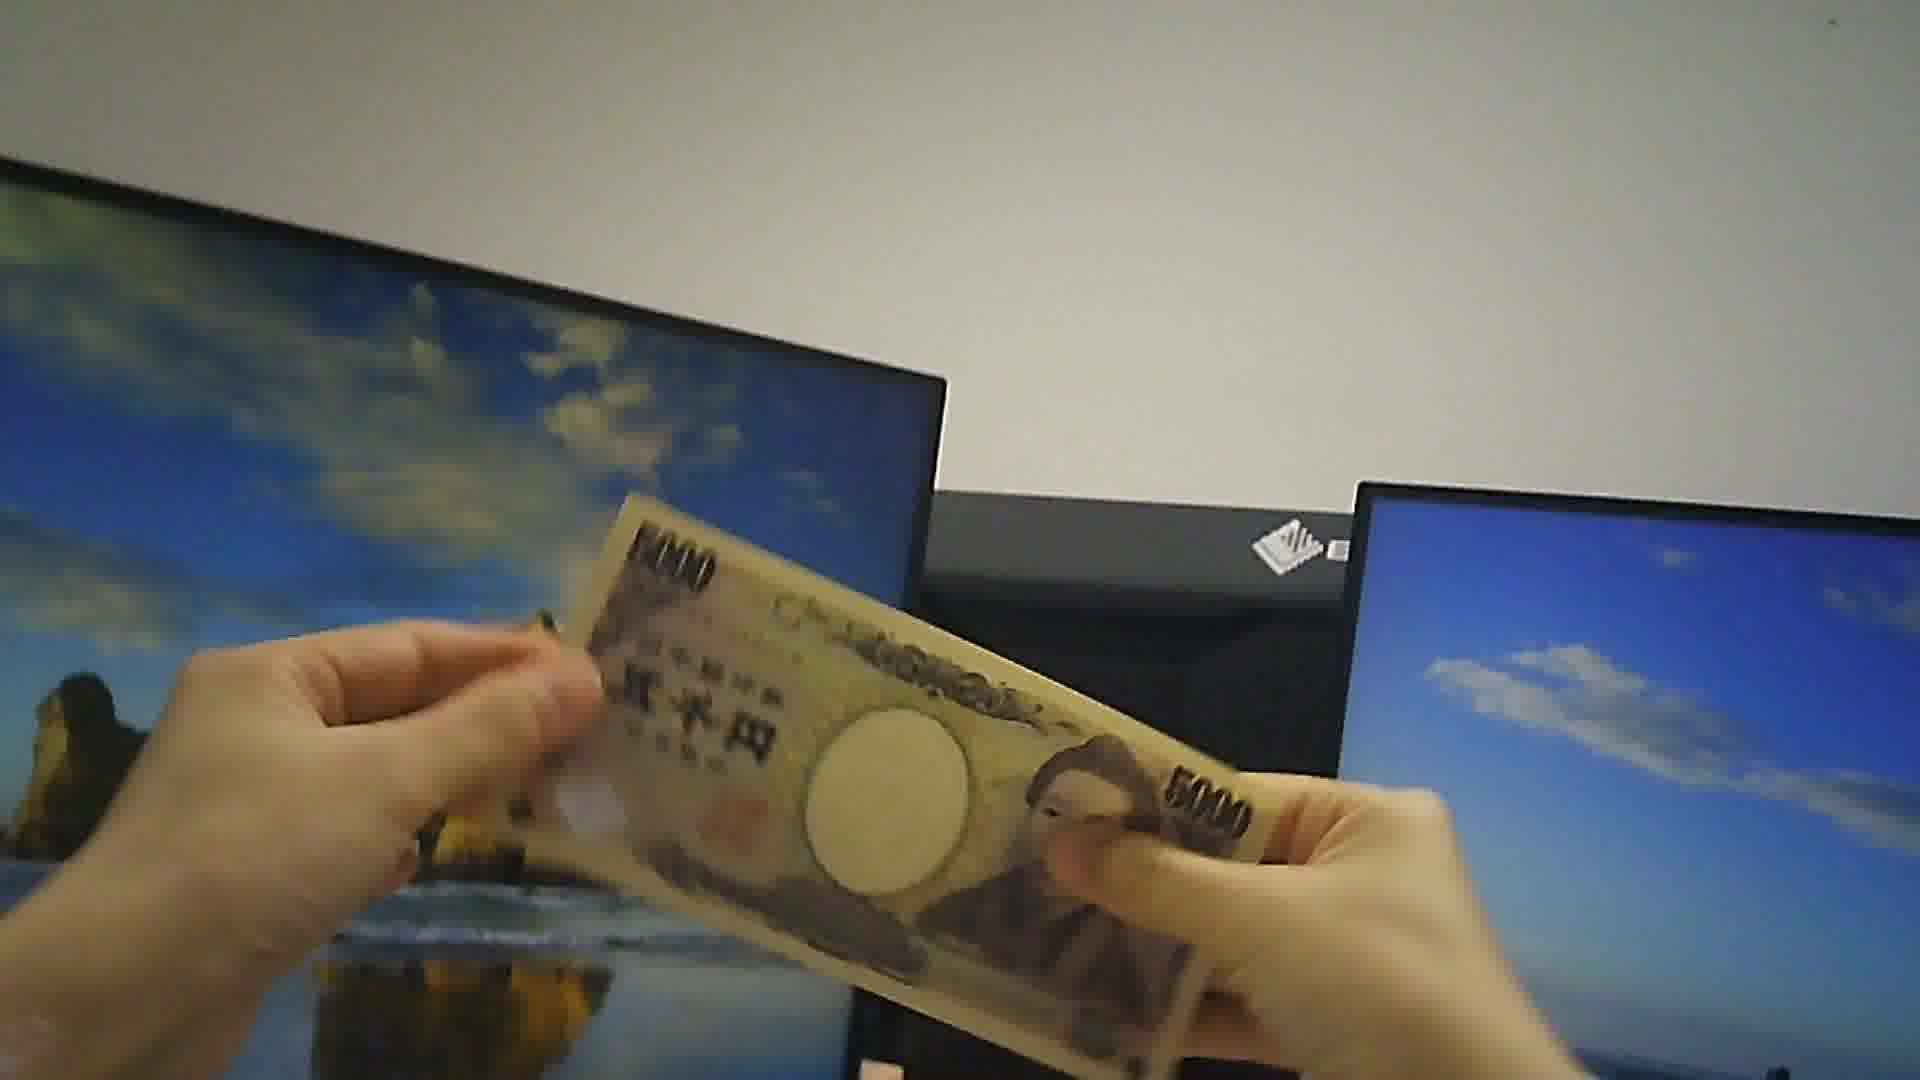5,000 Yen: (506, 477, 1280, 1062)
